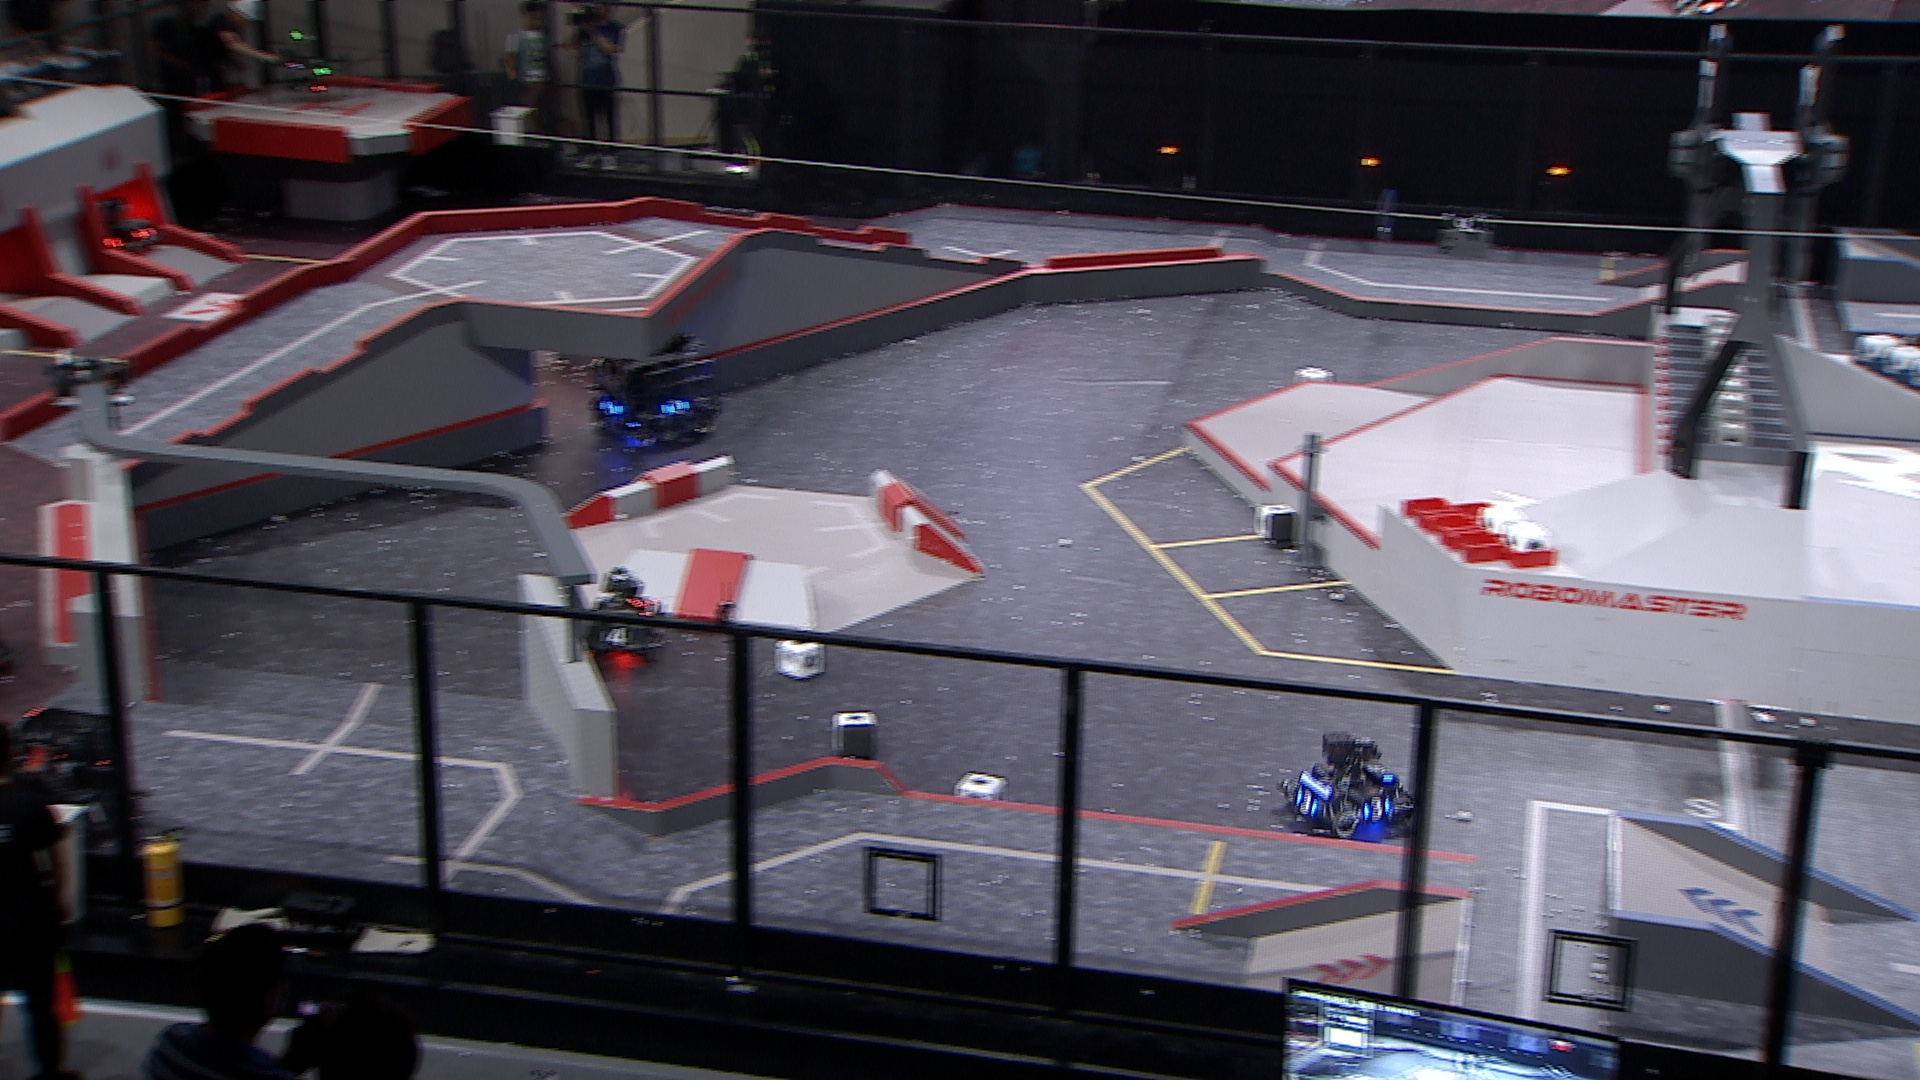armor: (80, 796, 113, 828), (1292, 787, 1321, 818), (655, 394, 692, 418), (1362, 790, 1393, 818), (597, 626, 636, 646), (131, 223, 160, 243), (595, 398, 626, 415), (1370, 764, 1395, 785)
car: (1275, 728, 1424, 839), (588, 330, 723, 452), (575, 564, 669, 665), (65, 189, 166, 258)
watcher: (41, 349, 135, 436)
